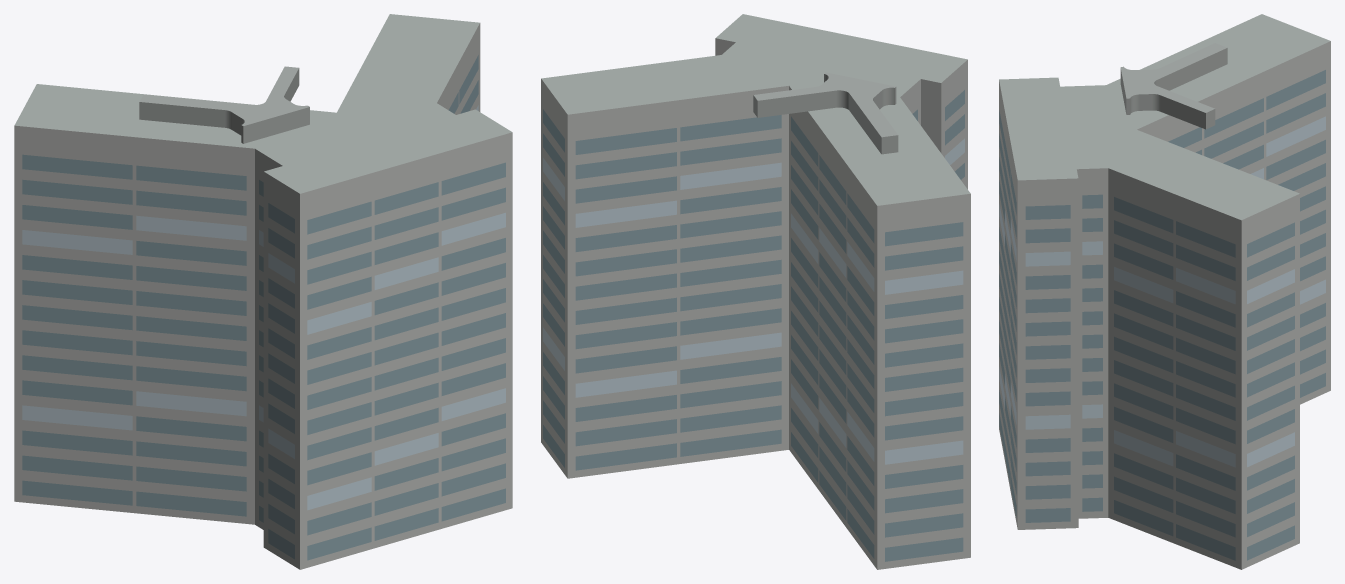
The model's file is fallback-raemian-oksu-riverzen-102.glb.
3 views of the same model, side by side, from view 1: azimuth 30°, elevation 25°; view 2: azimuth 150°, elevation 25°; view 3: azimuth 270°, elevation 25° (orthographic). The views are drawn at different scales.
Parts seen in each view (by area): view 1: fallback-raemian-oksu-riverzen-102; view 2: fallback-raemian-oksu-riverzen-102; view 3: fallback-raemian-oksu-riverzen-102.
Boxes of the visible parts, <box> form: fallback-raemian-oksu-riverzen-102: <box>14,14,512,569</box>; fallback-raemian-oksu-riverzen-102: <box>541,14,970,569</box>; fallback-raemian-oksu-riverzen-102: <box>999,14,1330,569</box>.
Size of the model in its own units: 51.98 by 43 by 35.33.
